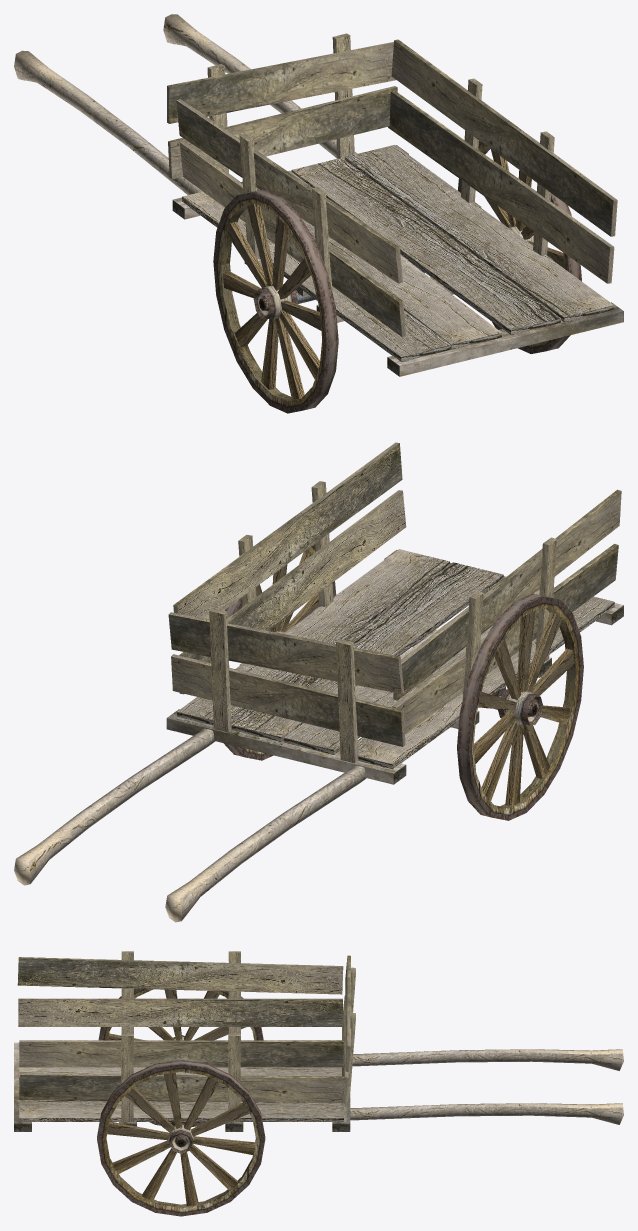
Rendered from cart.fbx.
3 views of the same model, one above another, from view 1: azimuth 30°, elevation 25°; view 2: azimuth 150°, elevation 25°; view 3: azimuth 270°, elevation 25° (orthographic). The views are drawn at different scales.
Visible parts, largest first — view 1: cart, wheels; view 2: cart, wheels; view 3: cart, wheels.
Boxes of the visible parts, x1,y1,x2,y2 form: cart: [14, 14, 623, 376]; wheels: [213, 140, 581, 413]; cart: [14, 442, 623, 922]; wheels: [224, 544, 583, 820]; cart: [14, 951, 623, 1131]; wheels: [97, 988, 265, 1216].
Size of the model in its own units: 1.75 by 1.46 by 4.57.
